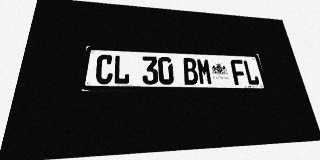0: (158, 57, 174, 85)
3: (142, 56, 158, 85)
B: (182, 58, 199, 85)
C: (95, 54, 114, 84)
F: (230, 59, 248, 85)
L: (113, 55, 130, 84), (242, 60, 260, 85)
M: (196, 58, 213, 85)
